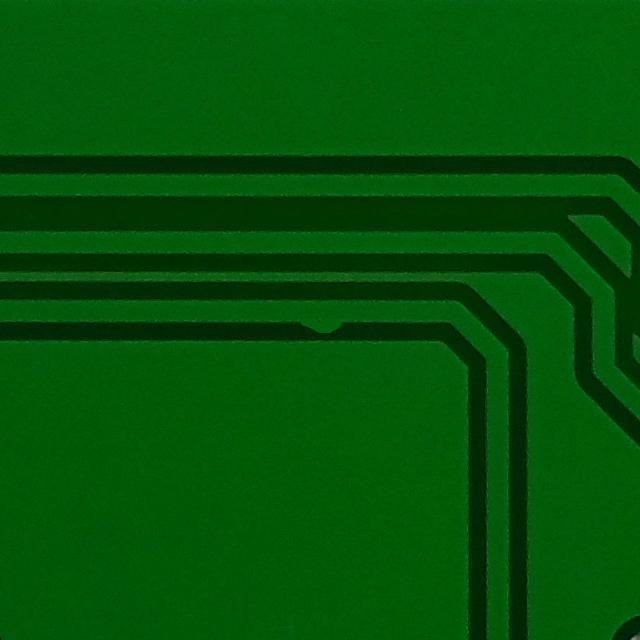spur: (288, 294, 353, 346)
